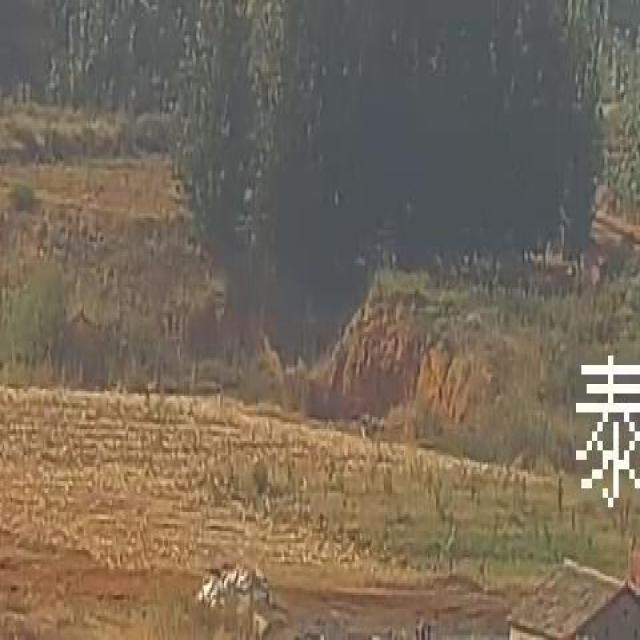other: (16, 248, 447, 433)
